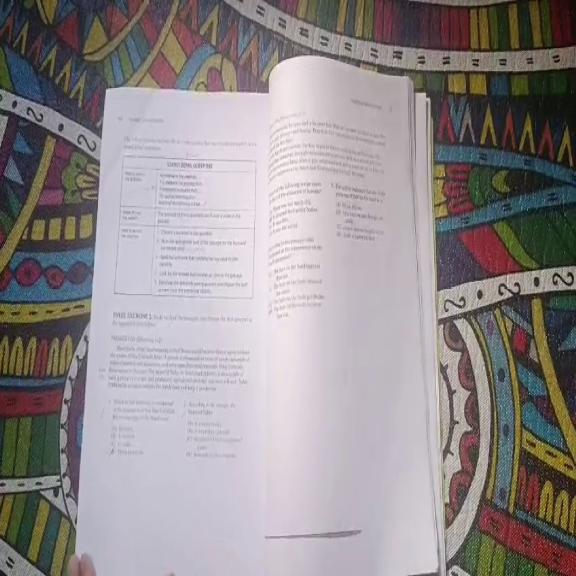Kertas: (78, 87, 269, 569), (268, 55, 437, 574)
